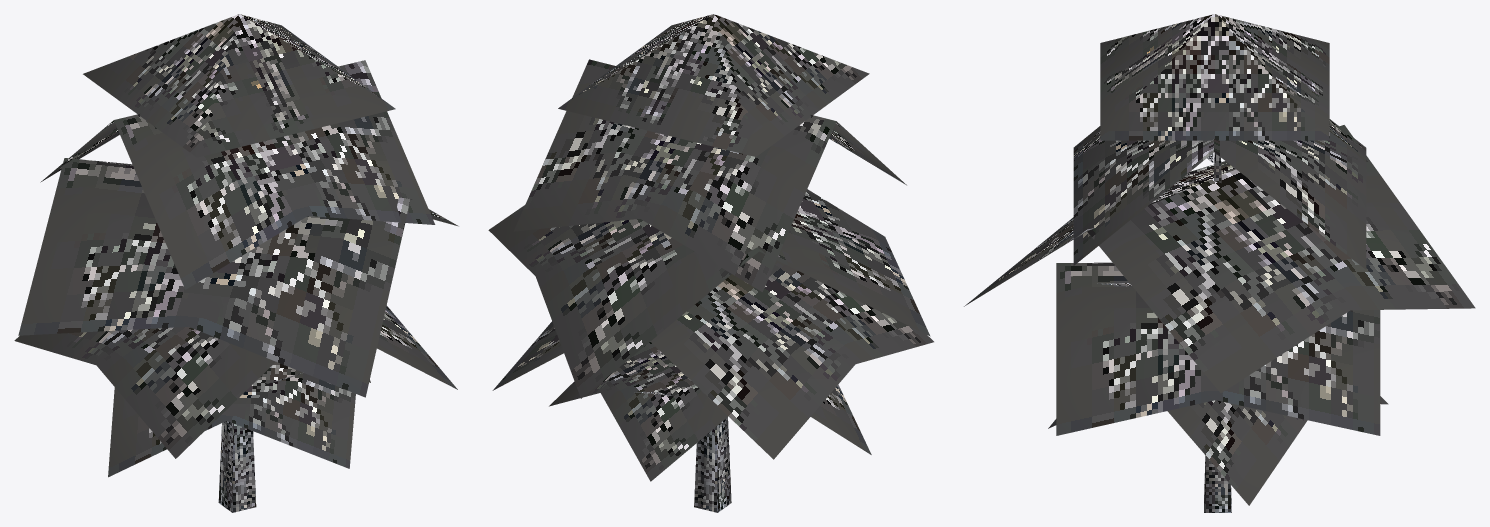
The model's file is Environment - Vegetation - Tree Cherry Blossom 02 - PTOakFall5.glb.
3 renders of one model, left to right at view 1: azimuth 30°, elevation 25°; view 2: azimuth 150°, elevation 25°; view 3: azimuth 270°, elevation 25°, orthographic.
Parts seen in each view (by area): view 1: PTOAKFALL5; view 2: PTOAKFALL5; view 3: PTOAKFALL5.
Boxes of the visible parts, x1,y1,x2,y2 form: PTOAKFALL5: [14, 14, 458, 512]; PTOAKFALL5: [488, 14, 933, 512]; PTOAKFALL5: [964, 14, 1475, 512].
Bounding box in the file's own units: 35.74 × 37.95 × 35.74.
1 material, 1 textured.
